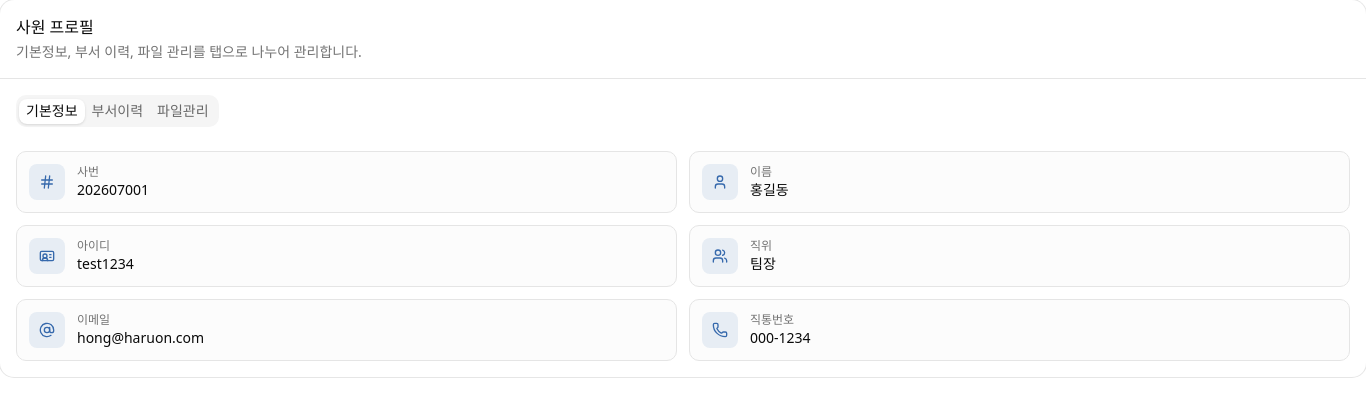
it: EmployeeProfileTabs - viewerIsSelf=true › "파일관리" 탭 클릭 시 EmpFileManagementPanel이 마운트되어 파일 목록을 조회한다
Step 1. Click the tab "파일관리" → click(183, 111), box [150,98,216,124]
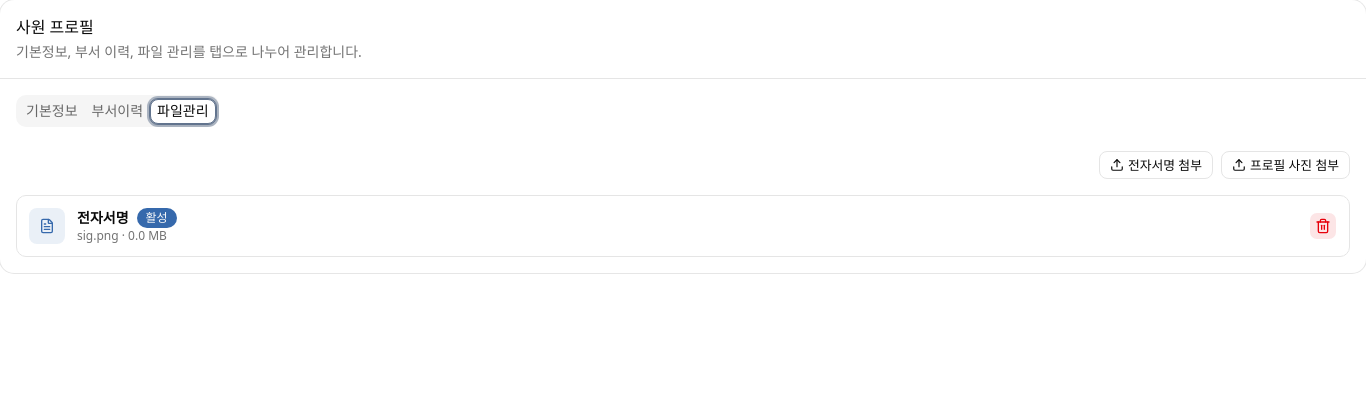
Now the text "sig.png · 0.0 MB" is shown, box [77,228,177,244]
